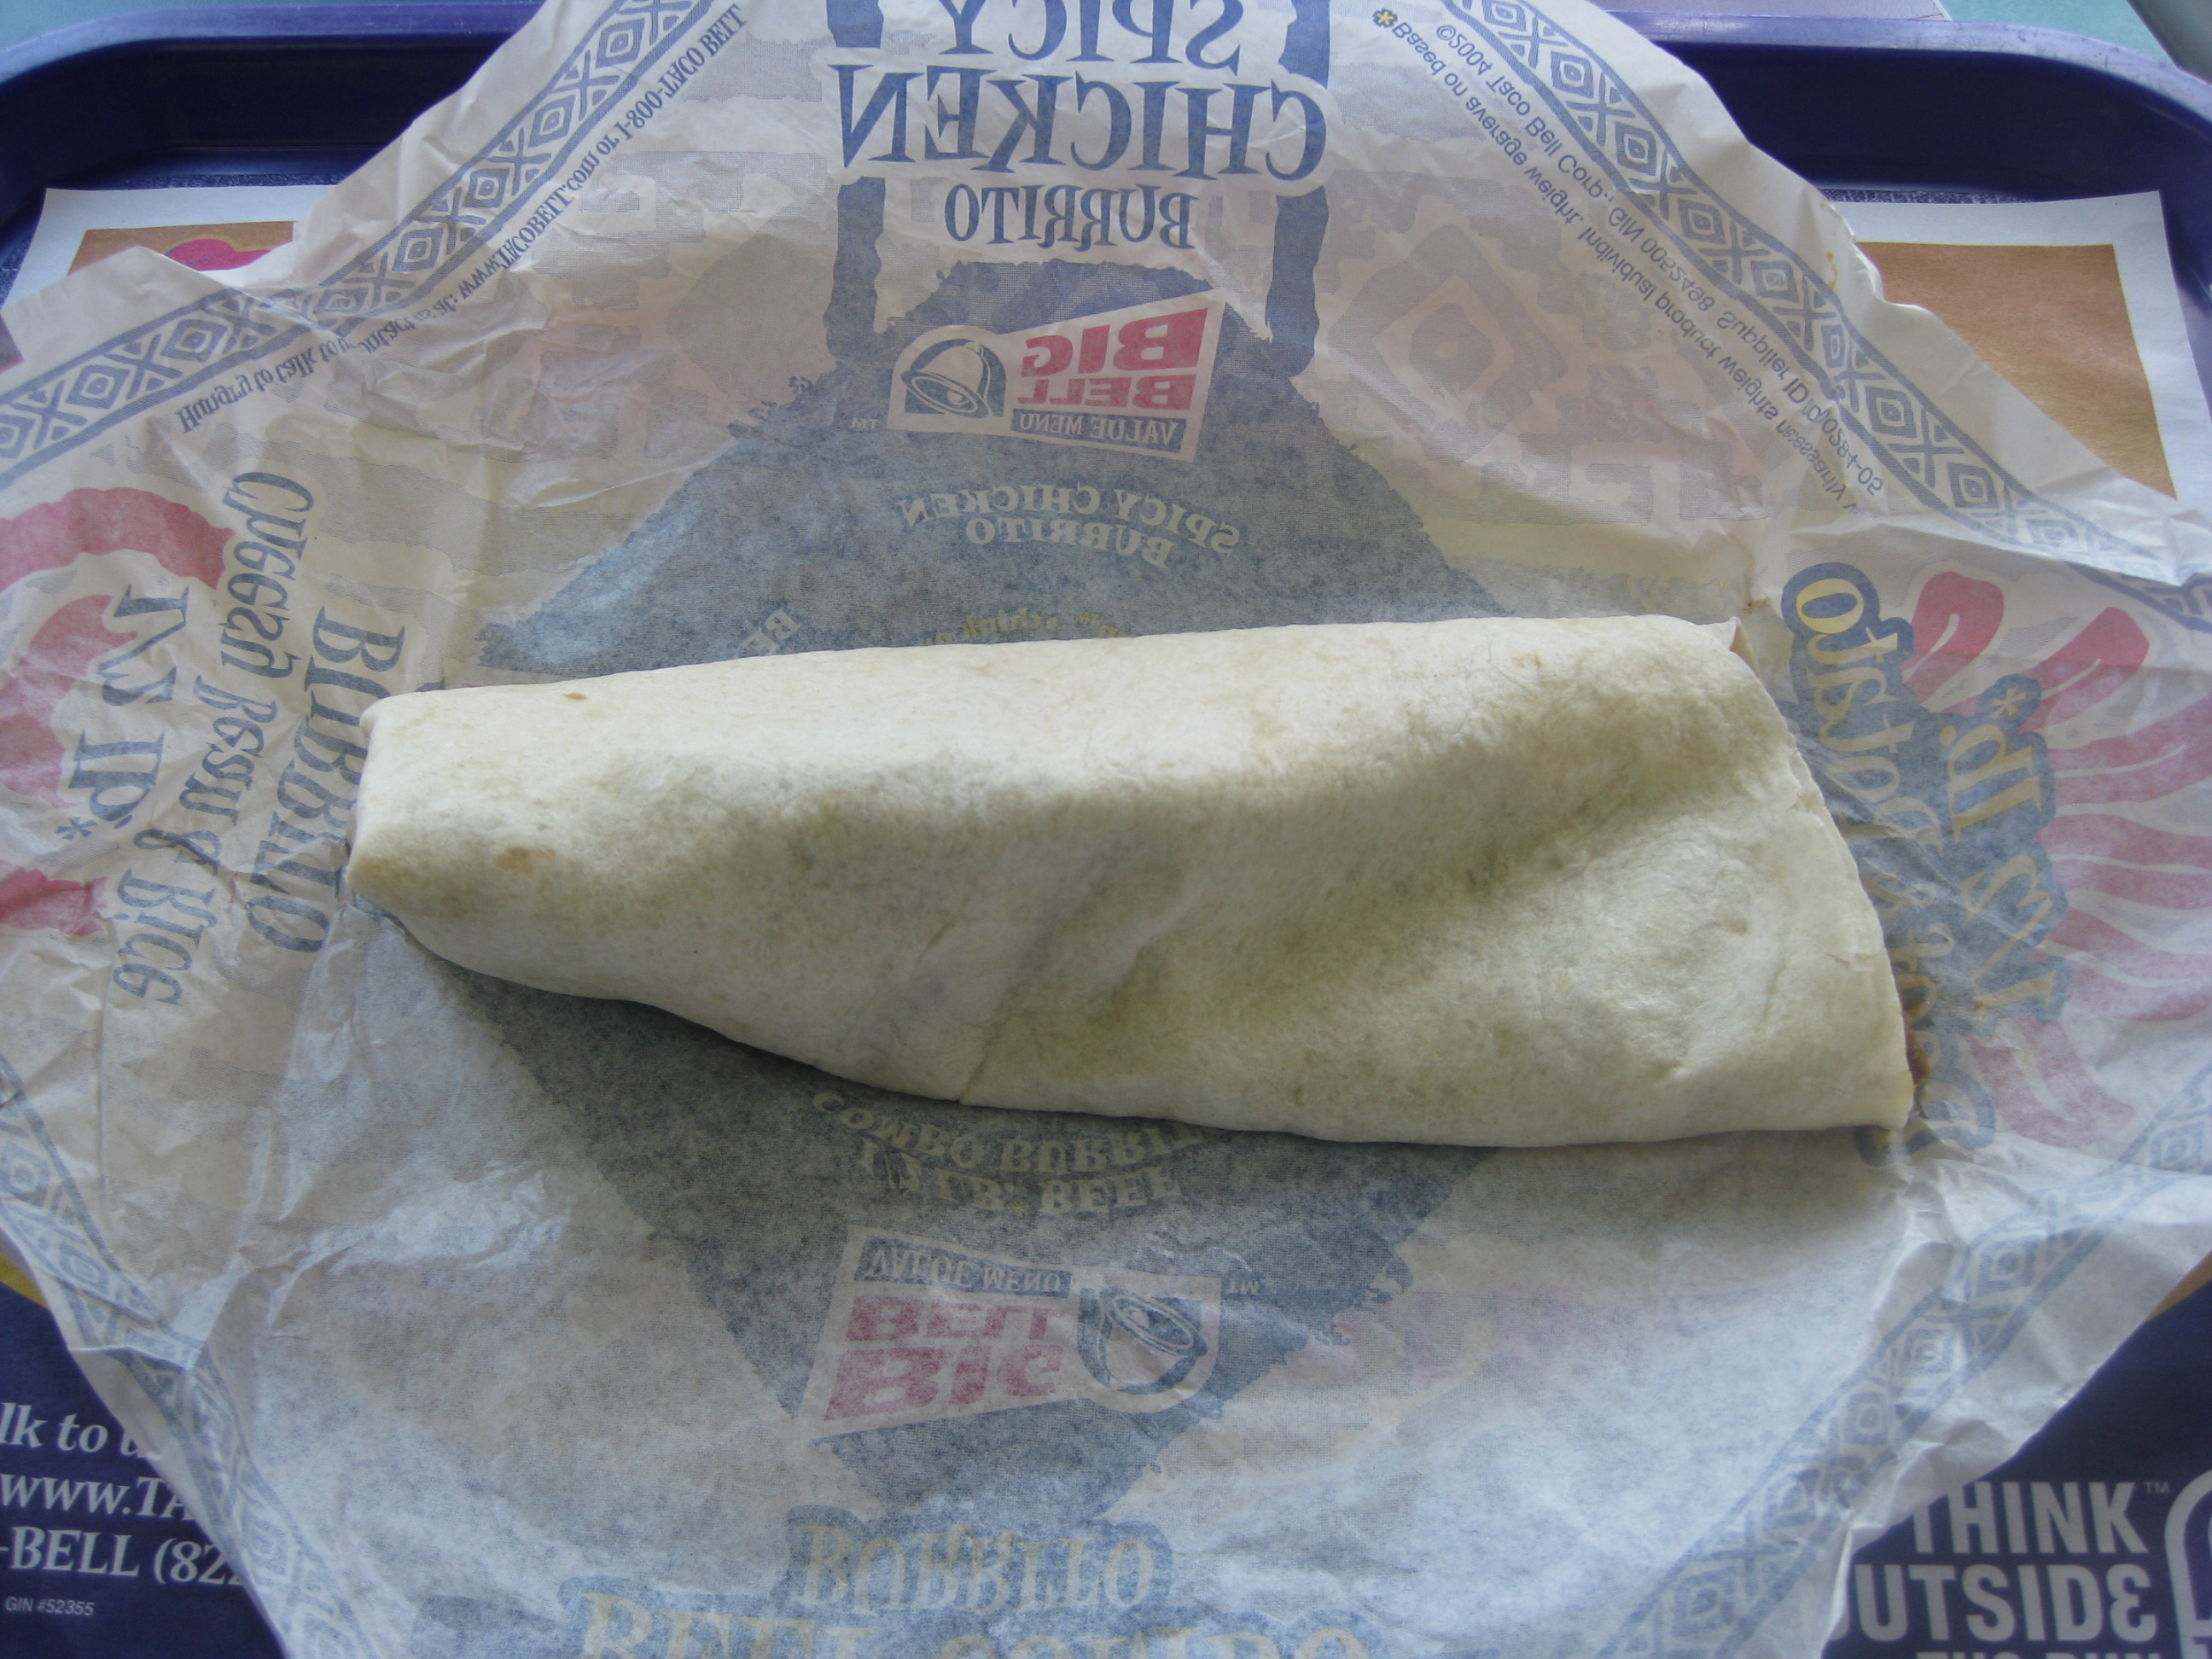burrito: (264, 514, 2000, 1288)
